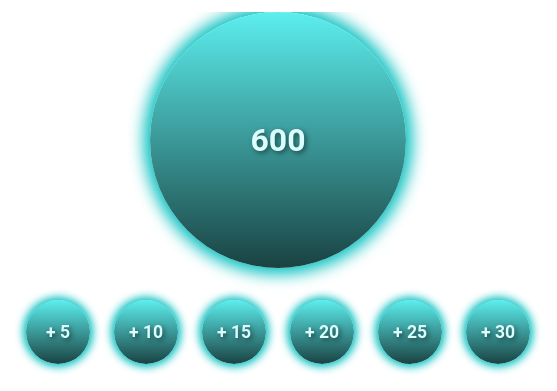
Test: Clicker Component › power orbs increment count by correct amount when clicked
Click the button "+ 5": {"x": 58, "y": 332} [26,300,90,364]
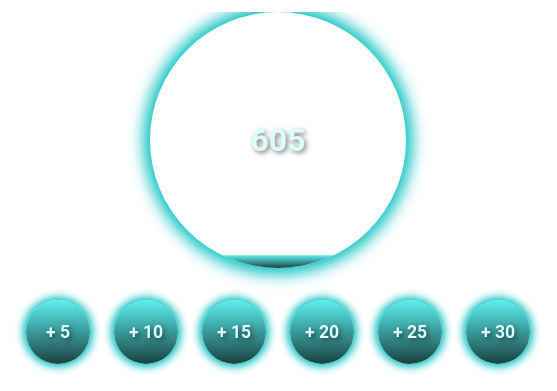
Result: the text "605" is shown at [250,116,306,164]
Click the button "+ 10": {"x": 146, "y": 332} [114,300,178,364]
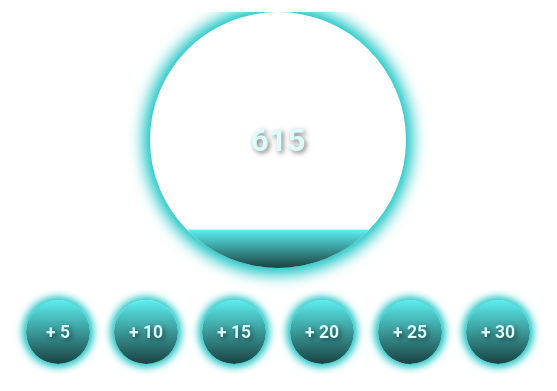
Result: the text "615" is shown at [250,116,306,164]
Click the button "+ 15": {"x": 234, "y": 332} [202,300,266,364]
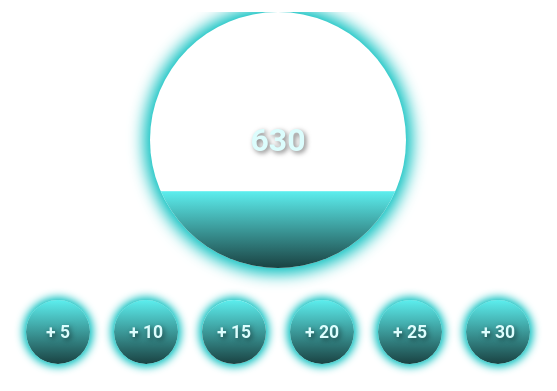
Result: the text "630" is shown at [250,116,306,164]
Click the button "+ 20": {"x": 322, "y": 332} [290,300,354,364]
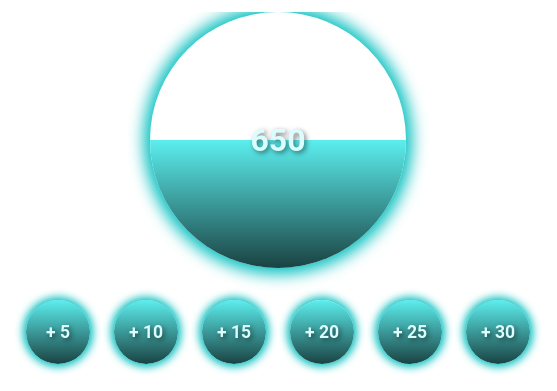
Result: the text "650" is shown at [250,116,306,164]
Click the button "+ 25": {"x": 410, "y": 332} [378,300,442,364]
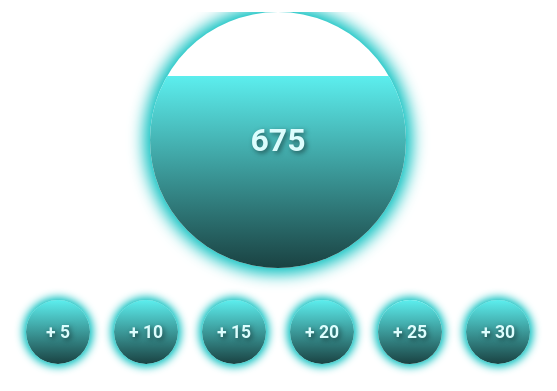
Result: the text "675" is shown at [250,116,306,164]
Click the button "+ 30": {"x": 498, "y": 332} [466,300,530,364]
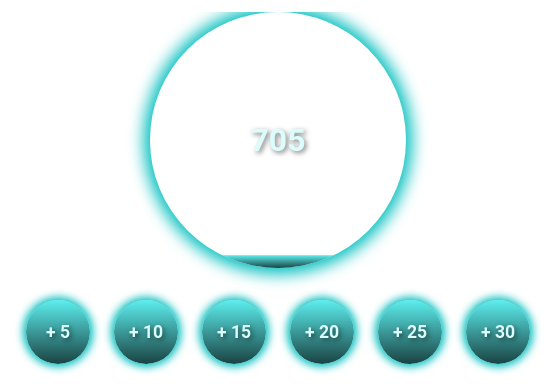
Result: the text "705" is shown at [250,116,306,164]
